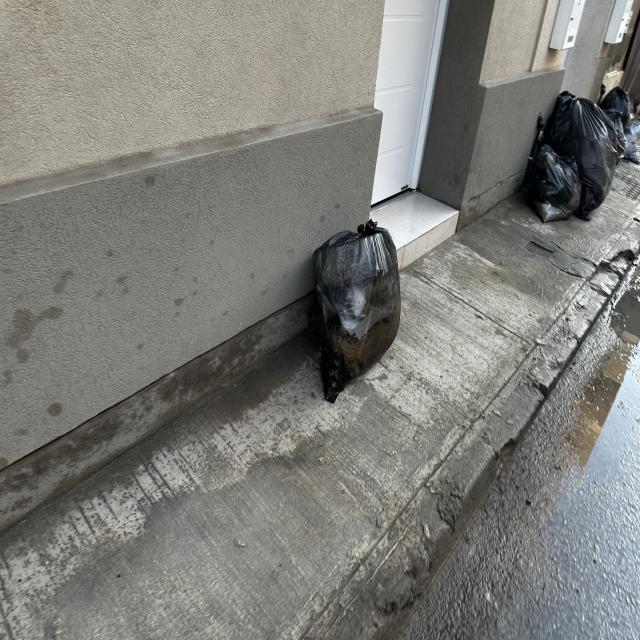Mixed Waste -Black Bags-: (313, 219, 401, 403)
